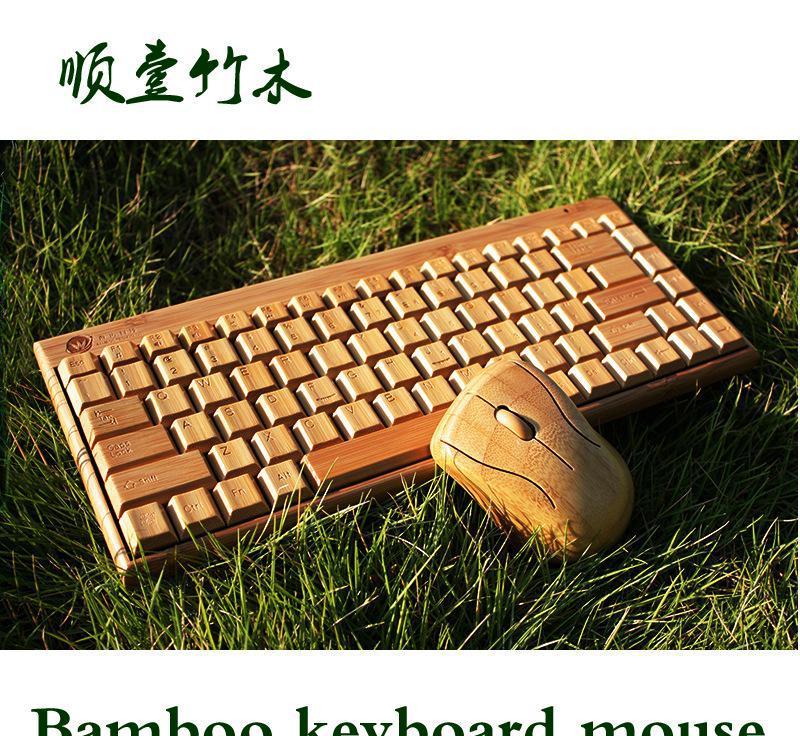keyboard: (31, 199, 762, 578)
mouse: (428, 358, 635, 556)
